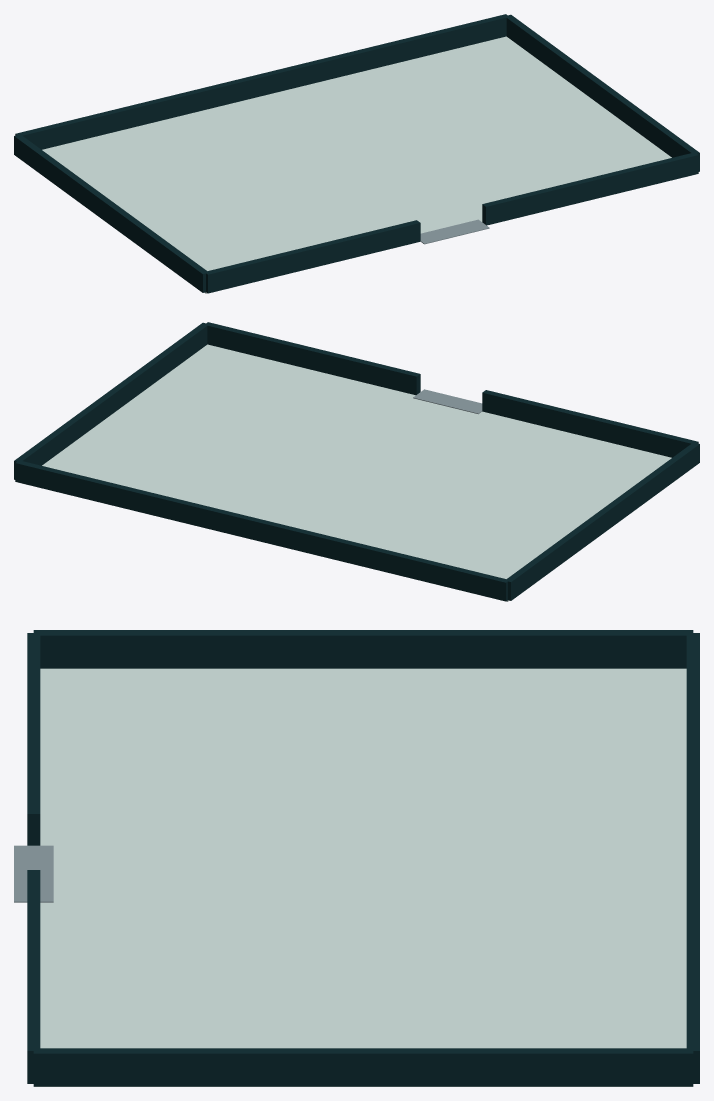
File: factory.glb
The picture shows the model from 3 angles, top to bottom: view 1: azimuth 30°, elevation 25°; view 2: azimuth 150°, elevation 25°; view 3: azimuth 270°, elevation 25°; orthographic projection. The views are drawn at different scales.
Bounding box in the file's own units: 30.4 × 1.2 × 20.8.
